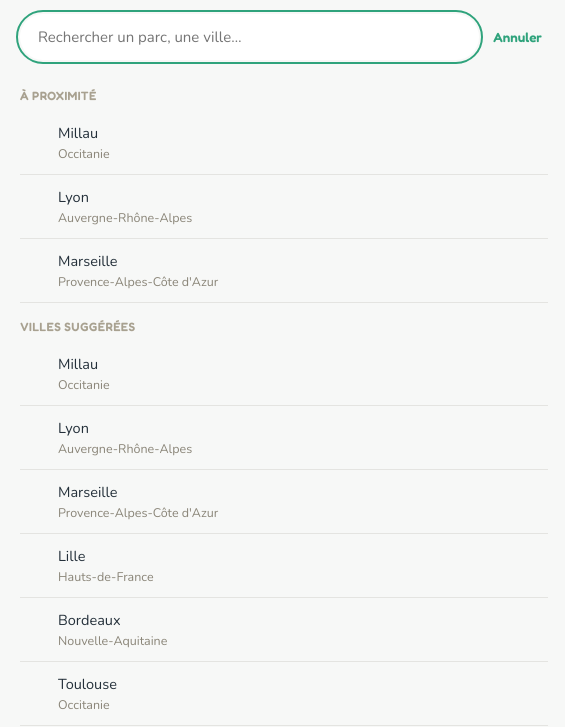
Test: SearchOverlay — Entrée = recherche géographique › does not claim « no place found » while results are still loading
Type "Barcelone" into the field with placeholder "Rechercher un parc, une ville…" at [250, 37], box left=20, top=14, right=479, bottom=60
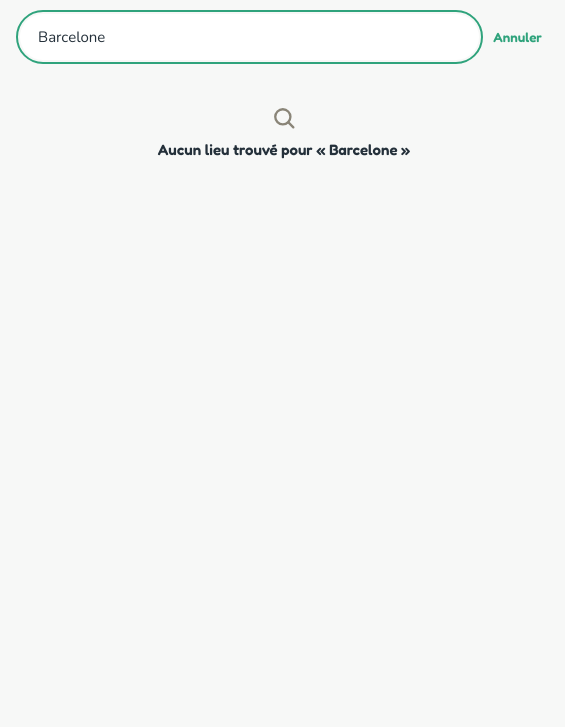
Result: the text "Aucun lieu trouvé pour « Barcelone »" is shown at left=158, top=140, right=410, bottom=159
